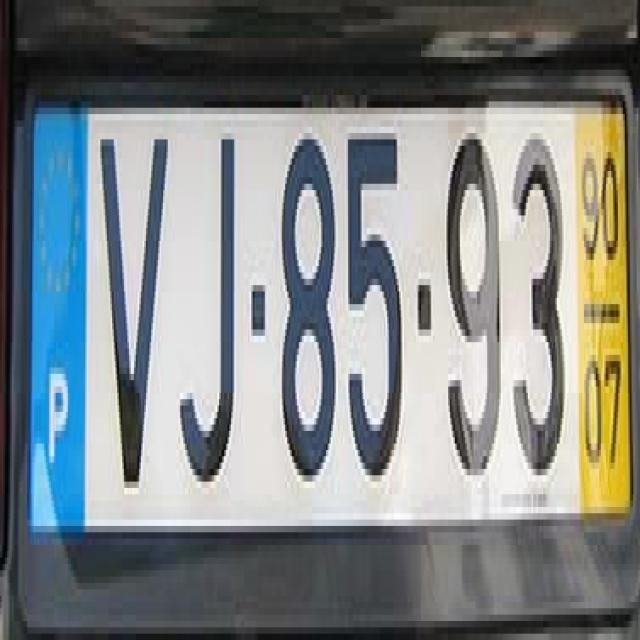EU: (27, 85, 630, 537)
Pologne: (31, 110, 92, 535)
